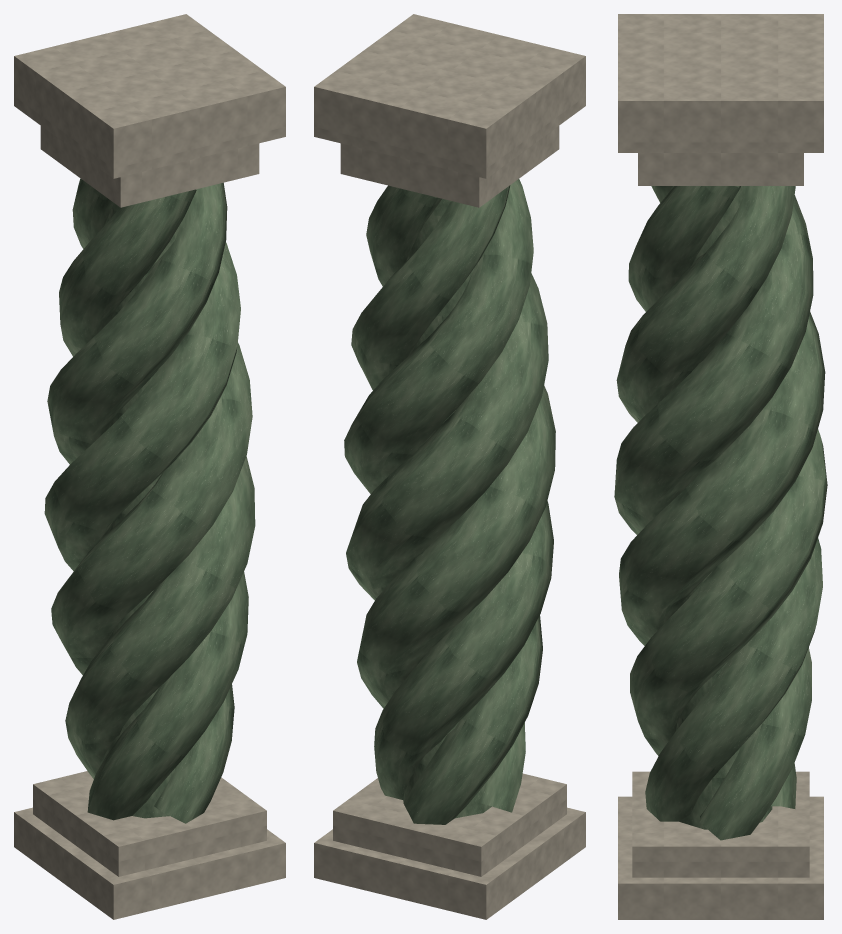
The model's file is Column_Twisted_Giant_1.gltf.
3 renders of one model, left to right at view 1: azimuth 30°, elevation 25°; view 2: azimuth 150°, elevation 25°; view 3: azimuth 270°, elevation 25°, orthographic. The views are drawn at different scales.
Visible parts, largest first — view 1: Column_Twisted_Giant_1; view 2: Column_Twisted_Giant_1; view 3: Column_Twisted_Giant_1.
Part boxes in pixels (box(x1,y1,x2,y2)): Column_Twisted_Giant_1: box(14, 14, 285, 919); Column_Twisted_Giant_1: box(314, 14, 585, 919); Column_Twisted_Giant_1: box(614, 14, 827, 919).
Bounding box in the file's own units: 3.73 × 15.8 × 3.73.
Materials: 2 (2 with a texture image).
